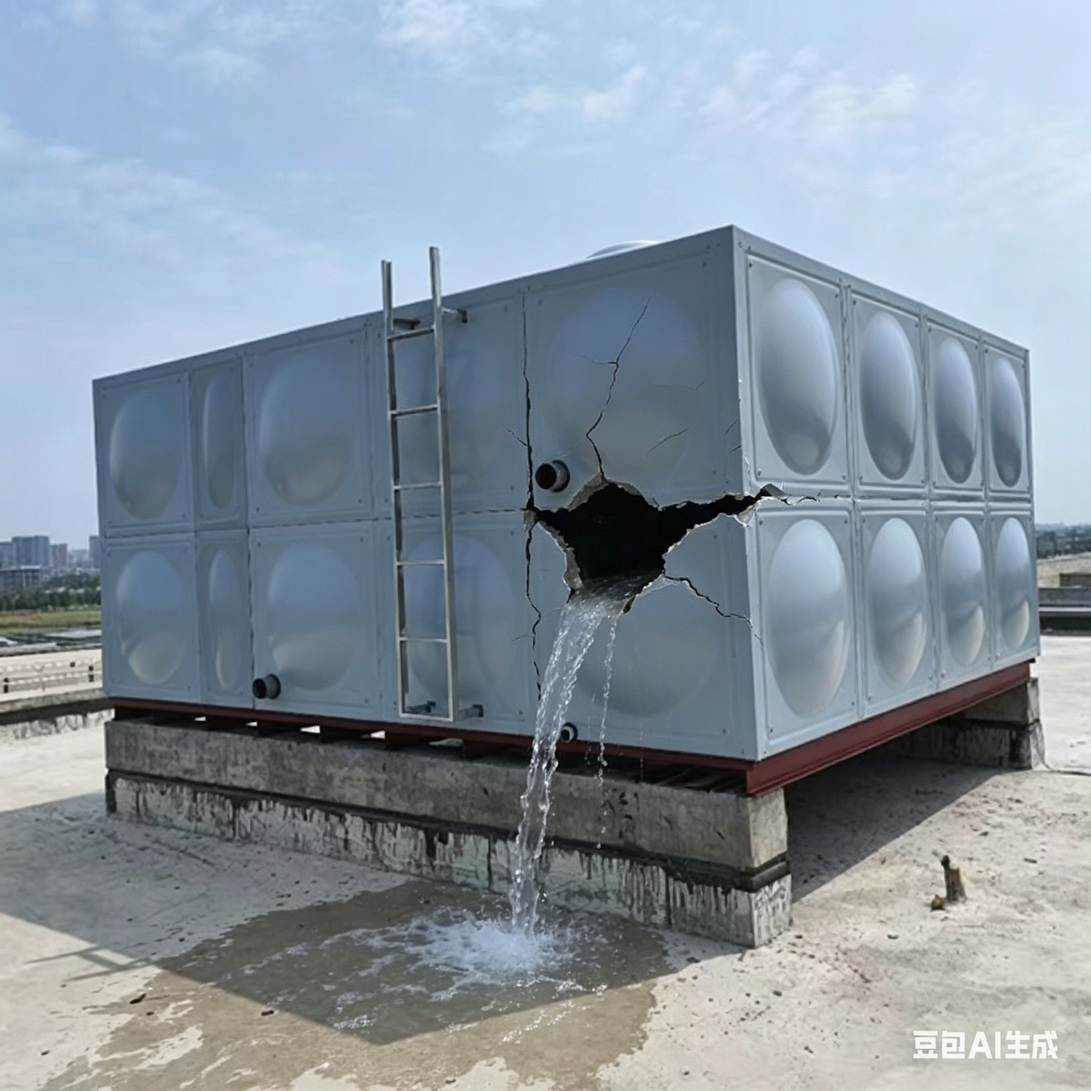Leakage: (505, 570, 642, 1065), (185, 929, 499, 1089), (110, 967, 185, 1091), (309, 896, 511, 923)
